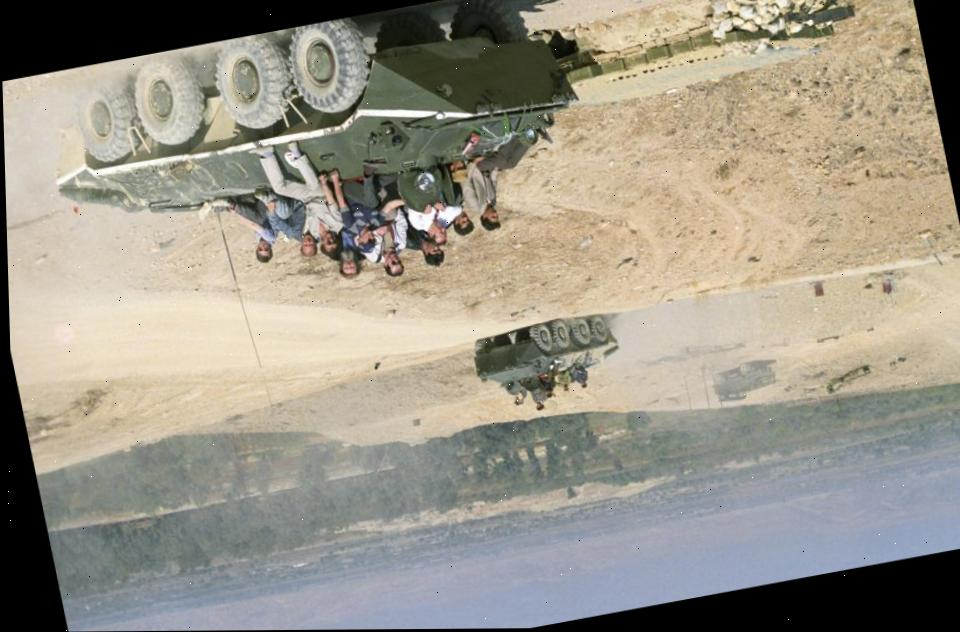tank: (30, 0, 599, 278), (466, 306, 625, 401)
truck: (705, 356, 779, 405)
